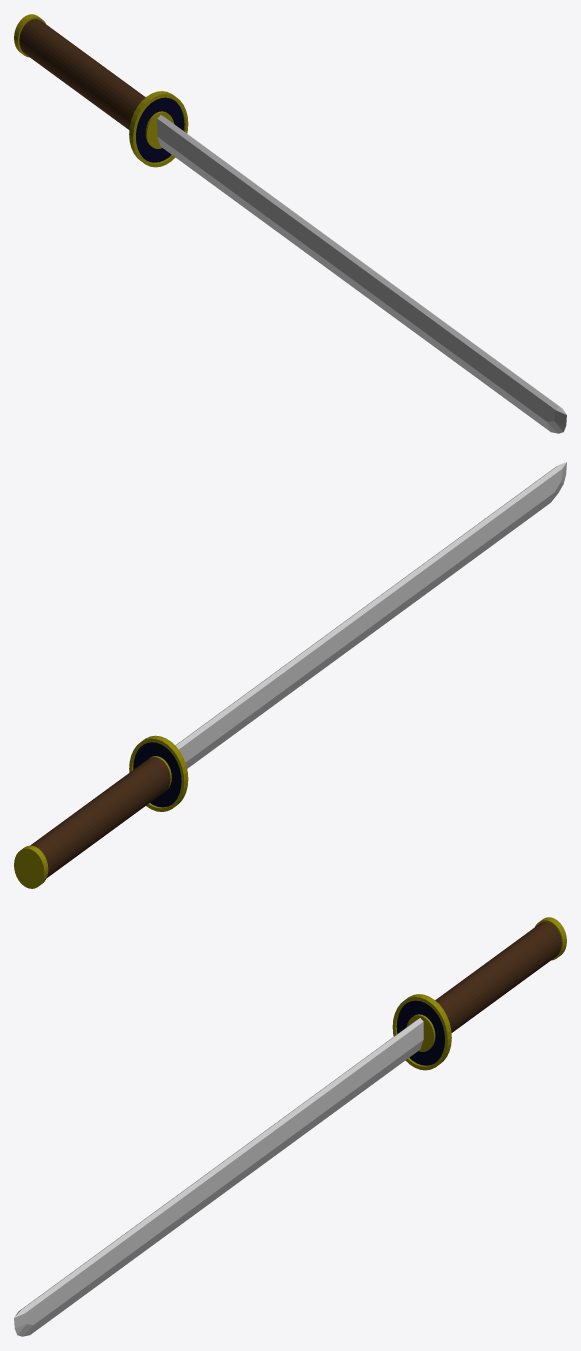
The model's file is Katana.fbx.
The picture shows the model from 3 angles, top to bottom: view 1: azimuth 30°, elevation 25°; view 2: azimuth 150°, elevation 25°; view 3: azimuth 330°, elevation 25°; orthographic projection.
Parts seen in each view (by area): view 1: Blade; view 2: Blade; view 3: Blade.
Part boxes in pixels (x1,y1,x2,y2): Blade: [14, 14, 566, 433]; Blade: [14, 462, 566, 888]; Blade: [14, 917, 566, 1336].
Size of the model in its own units: 40 by 50 by 675.
